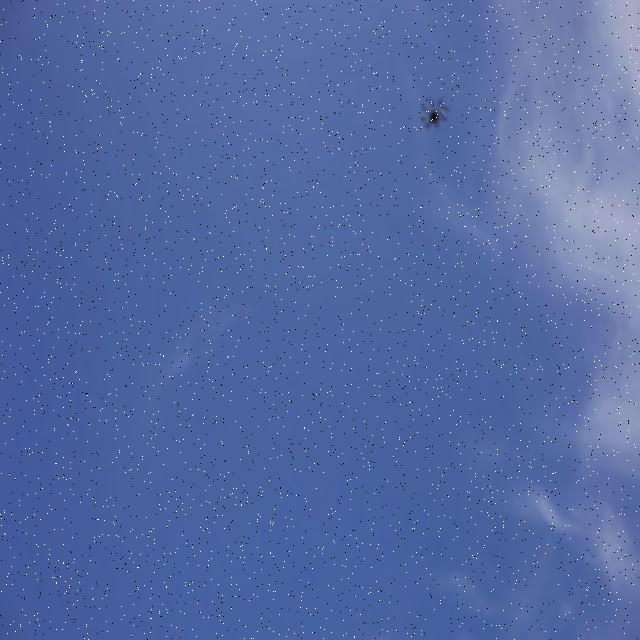UAV: (420, 97, 450, 130)
